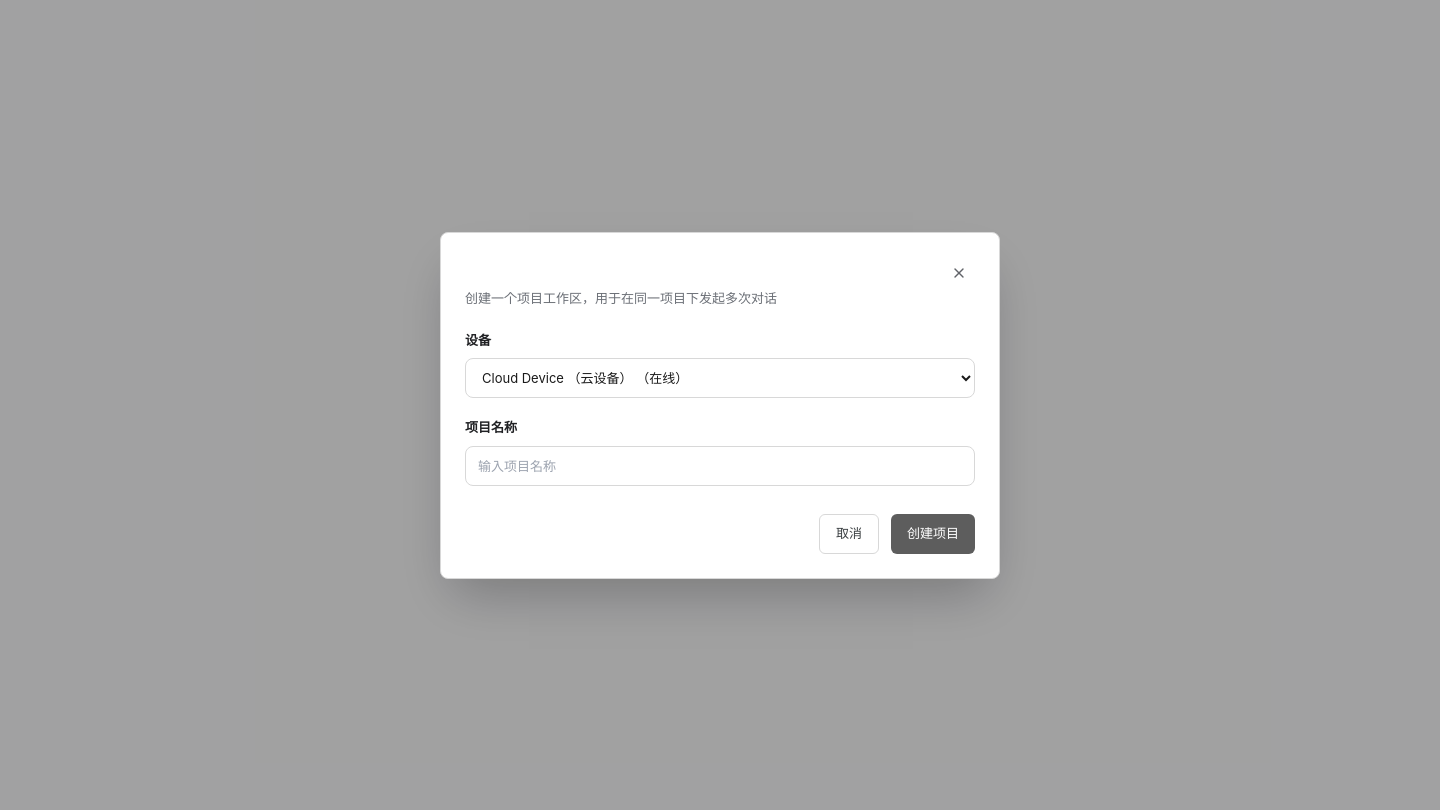
it: ProjectCreateDialog › shows an upgrade prompt only for the selected old device
Select "Old Device （云设备） （需升级）" in the dropdown with test id "project-device-select" at (720, 378), box 465,358 -> 975,398
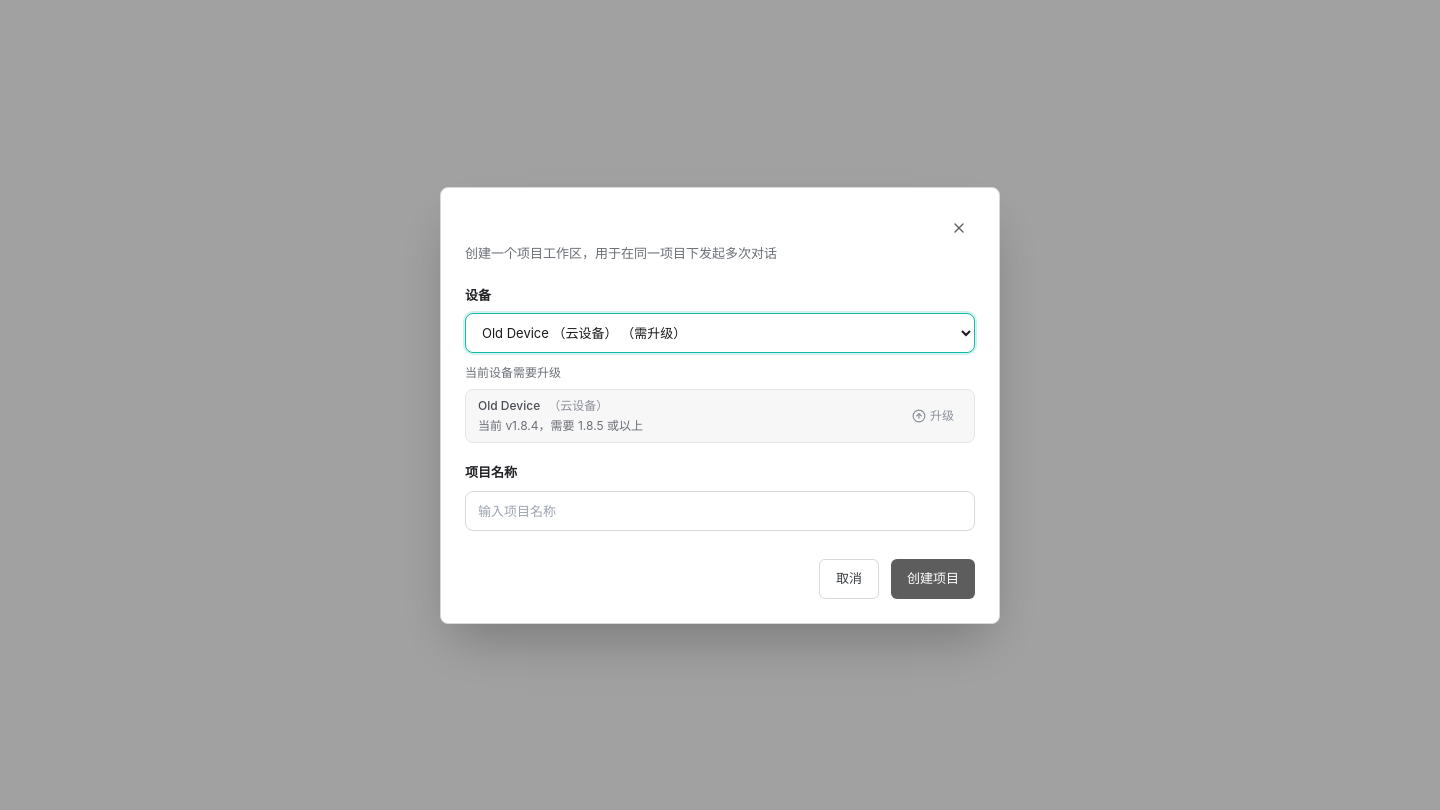
Result: the element with test id "project-device-unavailable-old-device" shows "当前 v1.8.4，需要 1.8.5 或以上" at 478,418 -> 643,433
